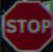Stop: (3, 4, 50, 44)
